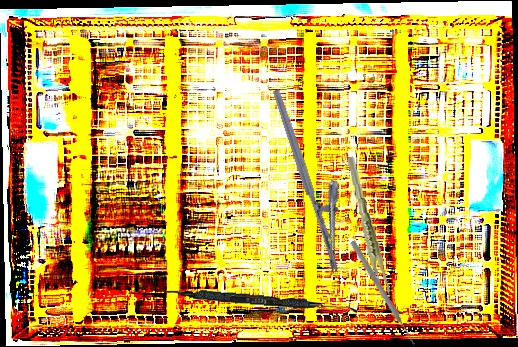Needle Holder: (271, 80, 365, 275)
Pusher: (348, 239, 418, 347)
Spatula Surgical: (155, 286, 359, 314)
Tissue Forceps: (345, 154, 392, 300)
